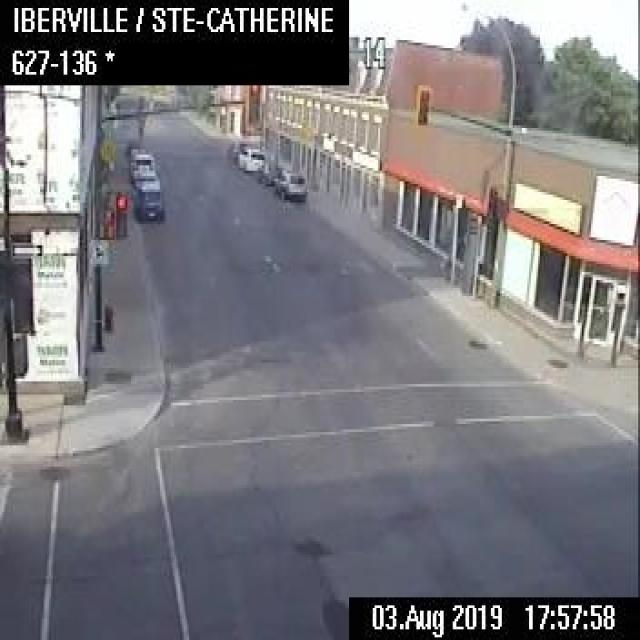vehicle: (132, 168, 163, 219), (271, 167, 306, 200), (235, 144, 262, 170), (128, 150, 152, 178), (257, 159, 281, 185)
